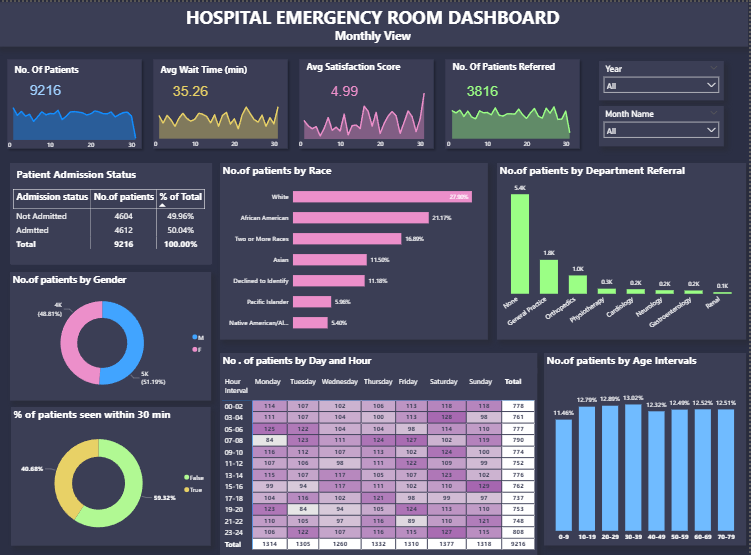

The page's visual inventory and layout, read from the dashboard file:
{"tool":"powerbi","page":{"name":"Monthly View","canvas":[1565,1200],"ordinal":0},"visuals":[{"type":"textbox","box":[0,0,1564.9,93],"z":0},{"type":"shape","box":[12.7,110,297.9,203.9],"z":0,"group":"g1"},{"type":"shape","box":[316.7,110.4,297.9,203.9],"z":0,"group":"g2"},{"type":"shape","box":[620.5,110.9,297.9,203.9],"z":0,"group":"g3"},{"type":"shape","box":[924,111.3,297.9,203.9],"z":0,"group":"g4"},{"type":"shape","box":[27.5,335,421.2,210.6],"z":0,"group":"g5"},{"type":"group","id":"g1","title":"Group 1","box":[9.8,110,327.1,205.7],"z":1000},{"type":"group","id":"g2","title":"Group 1","box":[314.3,110.4,318.6,203.9],"z":2000},{"type":"textbox","box":[942.8,116.6,263.2,46.3],"z":2000,"group":"g4"},{"type":"textbox","box":[639.1,118,244.4,49.2],"z":2000,"group":"g3"},{"type":"textbox","box":[31.5,121.6,247.3,40.5],"z":2000,"group":"g1"},{"type":"textbox","box":[335.5,122,247.3,40.5],"z":2000,"group":"g2"},{"type":"group","id":"g3","title":"Group 1","box":[616.9,110.9,321.4,203.9],"z":3000},{"type":"card","fields":{"Values":["Hospital ER_Data.No.of patients"]},"box":[42.9,154.3,114.3,58.6],"z":3000,"group":"g1"},{"type":"card","fields":{"Values":["Hospital ER_Data.avg wait time"]},"box":[345.6,155.2,114.2,57.8],"z":3000,"group":"g2"},{"type":"card","fields":{"Values":["Hospital ER_Data.no. of patient referred"]},"box":[952.9,156.1,114.2,57.8],"z":3000,"group":"g4"},{"type":"card","fields":{"Values":["Hospital ER_Data.Avg satisfaction score"]},"box":[667.7,156.6,114.2,57.8],"z":3000,"group":"g3"},{"type":"group","id":"g4","title":"Group 1","box":[924,111.3,315.7,203.9],"z":4000},{"type":"areaChart","fields":{"Y":["Hospital ER_Data.no. of patient referred"],"Category":["Calendar.Date.Variation.Date Hierarchy.Day"]},"box":[924,168,315.7,147.1],"z":4000,"group":"g4"},{"type":"areaChart","fields":{"Category":["Calendar.Date.Variation.Date Hierarchy.Day"],"Y":["Avg(Hospital ER_Data.Patient Satisfaction Score)"]},"box":[616.9,168.2,321.4,145.7],"z":4000,"group":"g3"},{"type":"areaChart","fields":{"Category":["Calendar.Date.Variation.Date Hierarchy.Day"],"Y":["Avg(Hospital ER_Data.Patient Waittime)"]},"box":[314.3,194.1,318.6,120],"z":4000,"group":"g2"},{"type":"areaChart","fields":{"Category":["Calendar.Date.Variation.Date Hierarchy.Day"],"Y":["Hospital ER_Data.No.of patients"]},"box":[9.8,201.4,327.1,114.3],"z":4000,"group":"g1"},{"type":"textbox","box":[36.5,340.1,292,46.7],"z":4000,"group":"g5"},{"type":"slicer","fields":{"Values":["Calendar.Year"]},"box":[1254.4,122.8,259.6,82.5],"z":5000},{"type":"slicer","fields":{"Values":["Calendar.Month Name"]},"box":[1254.4,215.8,259.6,84.2],"z":6000},{"type":"barChart","title":"No.of patients by  Race","fields":{"Category":["Hospital ER_Data.Patient Race"],"Y":["Divide(Hospital ER_Data.No.of patients, ScopedEval(Hospital ER_Data.No.of patients, []))"]},"box":[464.9,335.1,557.9,368.4],"z":7000},{"type":"columnChart","fields":{"Category":["Hospital ER_Data.Department Referral"],"Y":["Divide(Hospital ER_Data.No.of patients, ScopedEval(Hospital ER_Data.No.of patients, []))"]},"box":[1042.1,335.1,519.3,368.4],"z":8000},{"type":"pivotTable","title":"Patient Admission Status","fields":{"Rows":["Hospital ER_Data.Admission status"],"Values":["Hospital ER_Data.No.of patients","Divide(Hospital ER_Data.No.of patients, ScopedEval(Hospital ER_Data.No.of patients, []))"]},"box":[29.5,384.8,416.3,162.2],"z":9000,"group":"g5"},{"type":"donutChart","title":"No.of patients by  Gender","fields":{"Y":["Hospital ER_Data.No.of patients"],"Category":["Hospital ER_Data.Patient Gender"]},"box":[28.1,563.2,419.3,268.4],"z":9000},{"type":"group","id":"g5","title":"Group 2","box":[27.5,335,422.5,212.5],"z":10000},{"type":"donutChart","title":"% of patients seen within 30 min","fields":{"Category":["Hospital ER_Data.waittime status"],"Y":["Hospital ER_Data.No.of patients"]},"box":[29.8,843.9,415.8,289.5],"z":11000},{"type":"columnChart","fields":{"Category":["Hospital ER_Data.Age Intervals"],"Y":["Hospital ER_Data.No.of patients"]},"box":[1140,731.4,421.4,401.4],"z":12000},{"type":"pivotTable","title":"No . of patients by Day and Hour","fields":{"Columns":["Calendar.Weekday"],"Rows":["Hospital ER_Data.Hour Interval"],"Values":["Hospital ER_Data.No.of patients"]},"box":[464.3,731.4,661.4,431.4],"z":13000}]}

Visuals, with their boxes on the page's 1565x1200 design canvas (x1, y1, x2, y2). These are canvas units, not pixel positions in the 751x555 screenshot, which may show the page scaled, cropped or inside an application window:
textbox: 0,0,1565,93
shape: 13,110,311,314
shape: 317,110,615,314
shape: 620,111,918,315
shape: 924,111,1222,315
shape: 28,335,449,546
"Group 1" group: 10,110,337,316
"Group 1" group: 314,110,633,314
textbox: 943,117,1206,163
textbox: 639,118,884,167
textbox: 32,122,279,162
textbox: 336,122,583,162
"Group 1" group: 617,111,938,315
card - Hospital ER_Data.No.of patients: 43,154,157,213
card - Hospital ER_Data.avg wait time: 346,155,460,213
card - Hospital ER_Data.no. of patient referred: 953,156,1067,214
card - Hospital ER_Data.Avg satisfaction score: 668,157,782,214
"Group 1" group: 924,111,1240,315
areaChart - Hospital ER_Data.no. of patient referred x Calendar.Date.Variation.Date Hierarchy.Day: 924,168,1240,315
areaChart - Calendar.Date.Variation.Date Hierarchy.Day x Avg(Hospital ER_Data.Patient Satisfaction Score): 617,168,938,314
areaChart - Calendar.Date.Variation.Date Hierarchy.Day x Avg(Hospital ER_Data.Patient Waittime): 314,194,633,314
areaChart - Calendar.Date.Variation.Date Hierarchy.Day x Hospital ER_Data.No.of patients: 10,201,337,316
textbox: 36,340,328,387
slicer - Calendar.Year: 1254,123,1514,205
slicer - Calendar.Month Name: 1254,216,1514,300
"No.of patients by  Race" barChart: 465,335,1023,704
columnChart - Hospital ER_Data.Department Referral x Divide(Hospital ER_Data.No.of patients, ScopedEval(Hospital ER_Data.No.of patients, [])): 1042,335,1561,704
"Patient Admission Status" pivotTable: 30,385,446,547
"No.of patients by  Gender" donutChart: 28,563,447,832
"Group 2" group: 28,335,450,548
"% of patients seen within 30 min" donutChart: 30,844,446,1133
columnChart - Hospital ER_Data.Age Intervals x Hospital ER_Data.No.of patients: 1140,731,1561,1133
"No . of patients by Day and Hour" pivotTable: 464,731,1126,1163
